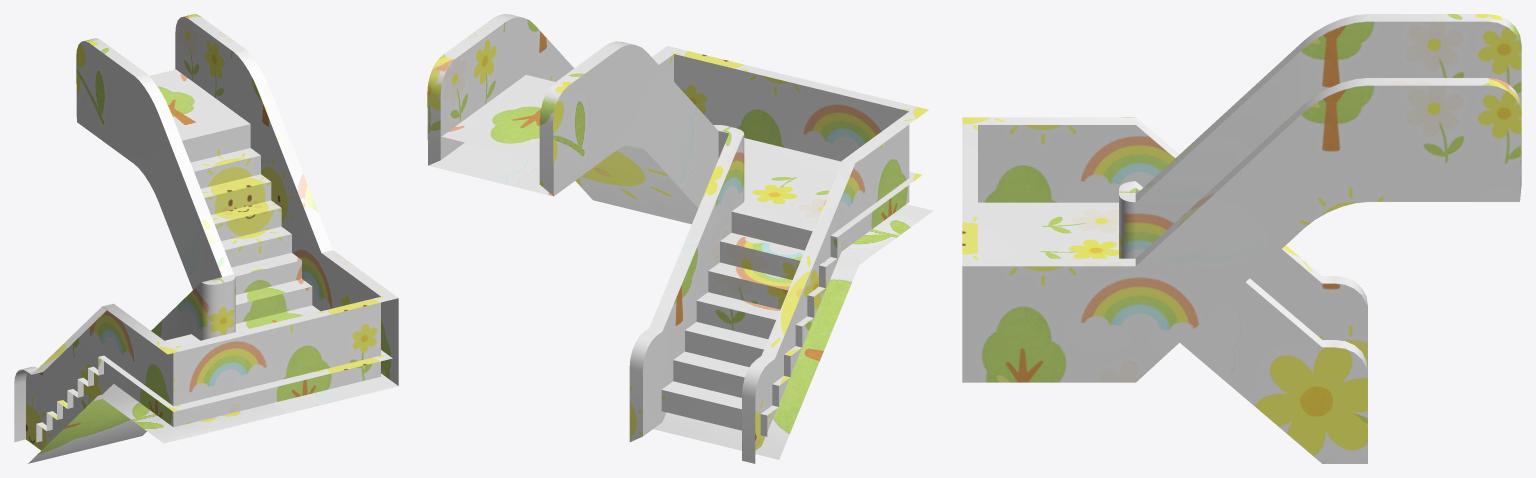
The model's file is stair.fbx.
3 views of the same model, side by side, from view 1: azimuth 30°, elevation 25°; view 2: azimuth 150°, elevation 25°; view 3: azimuth 270°, elevation 25° (orthographic). The views are drawn at different scales.
Visible parts, largest first — view 1: stair.001, stair.002; view 2: stair.002, stair.001; view 3: stair.001, stair.002.
Part boxes in pixels (left/top/right/bottom): stair.001: left=76, top=14, right=398, bottom=413; stair.002: left=14, top=277, right=294, bottom=463; stair.002: left=629, top=74, right=933, bottom=463; stair.001: left=427, top=14, right=784, bottom=224; stair.001: left=962, top=14, right=1521, bottom=382; stair.002: left=962, top=117, right=1367, bottom=463.
Bounding box in the file's own units: 311 × 436 × 485.
Materials: 1 (1 with a texture image).
